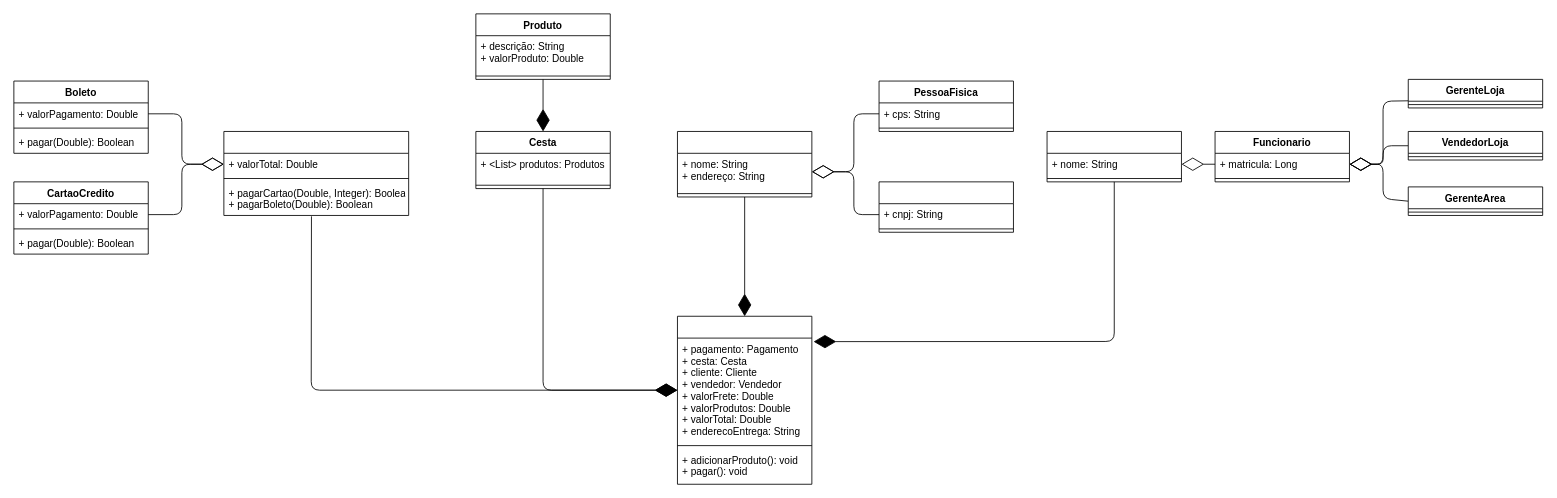
This 1557x498 diagram has some shape labels left out. Here are the shapes that lost their labels. From the top down, the box of each, then its label:
(223, 131, 409, 215): Pagamento
(677, 131, 812, 197): Cliente
(1046, 131, 1181, 182): Vendedor
(878, 181, 1013, 232): PessoaJuridica
(677, 315, 812, 484): Venda
